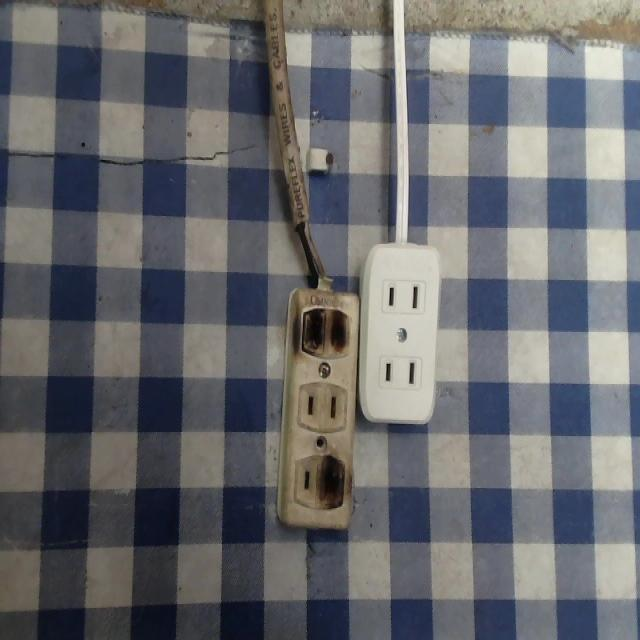-: (302, 305, 352, 360), (316, 453, 347, 511)
